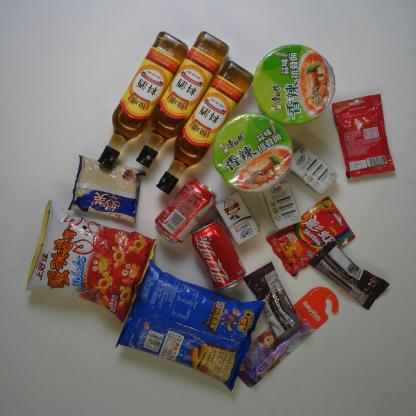Candy: (263, 195, 358, 278), (330, 92, 396, 179)
Chocolate: (309, 238, 391, 312), (243, 260, 304, 340)
Dessert: (66, 152, 148, 224)
Drink: (152, 175, 218, 245), (187, 217, 247, 293)
Instant Noodles: (252, 42, 338, 126), (211, 111, 294, 194)
Milk: (287, 143, 339, 196), (214, 190, 262, 247), (260, 174, 302, 230)
Personal Hygiene: (237, 286, 339, 390)
Puffed Food: (112, 257, 267, 393), (22, 198, 160, 328)
Seasoner: (155, 59, 256, 195), (134, 30, 232, 170), (96, 30, 190, 171)
